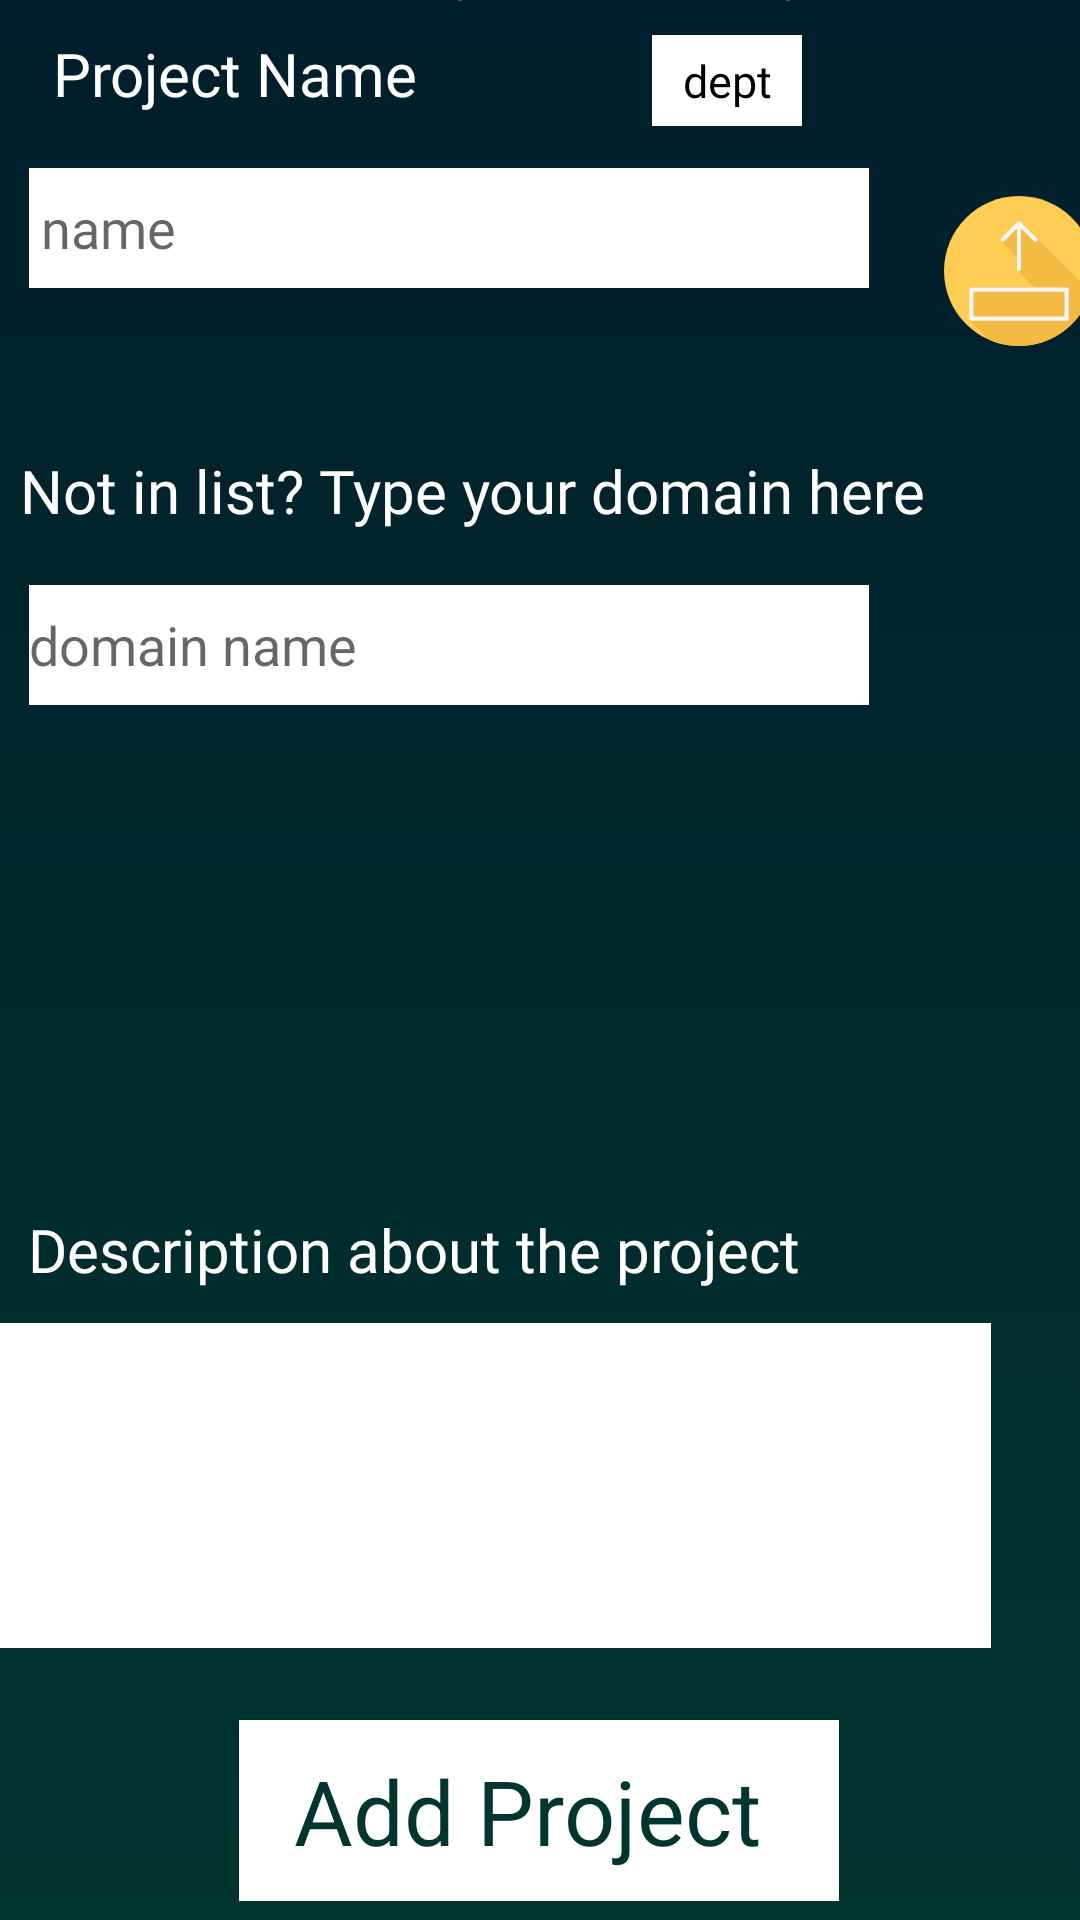

Screen size 1080×1920. Icon name, then its box in pixels as bbox=(x1, y1, x2, y2):
upload outbox: bbox=(944, 196, 1080, 346)
